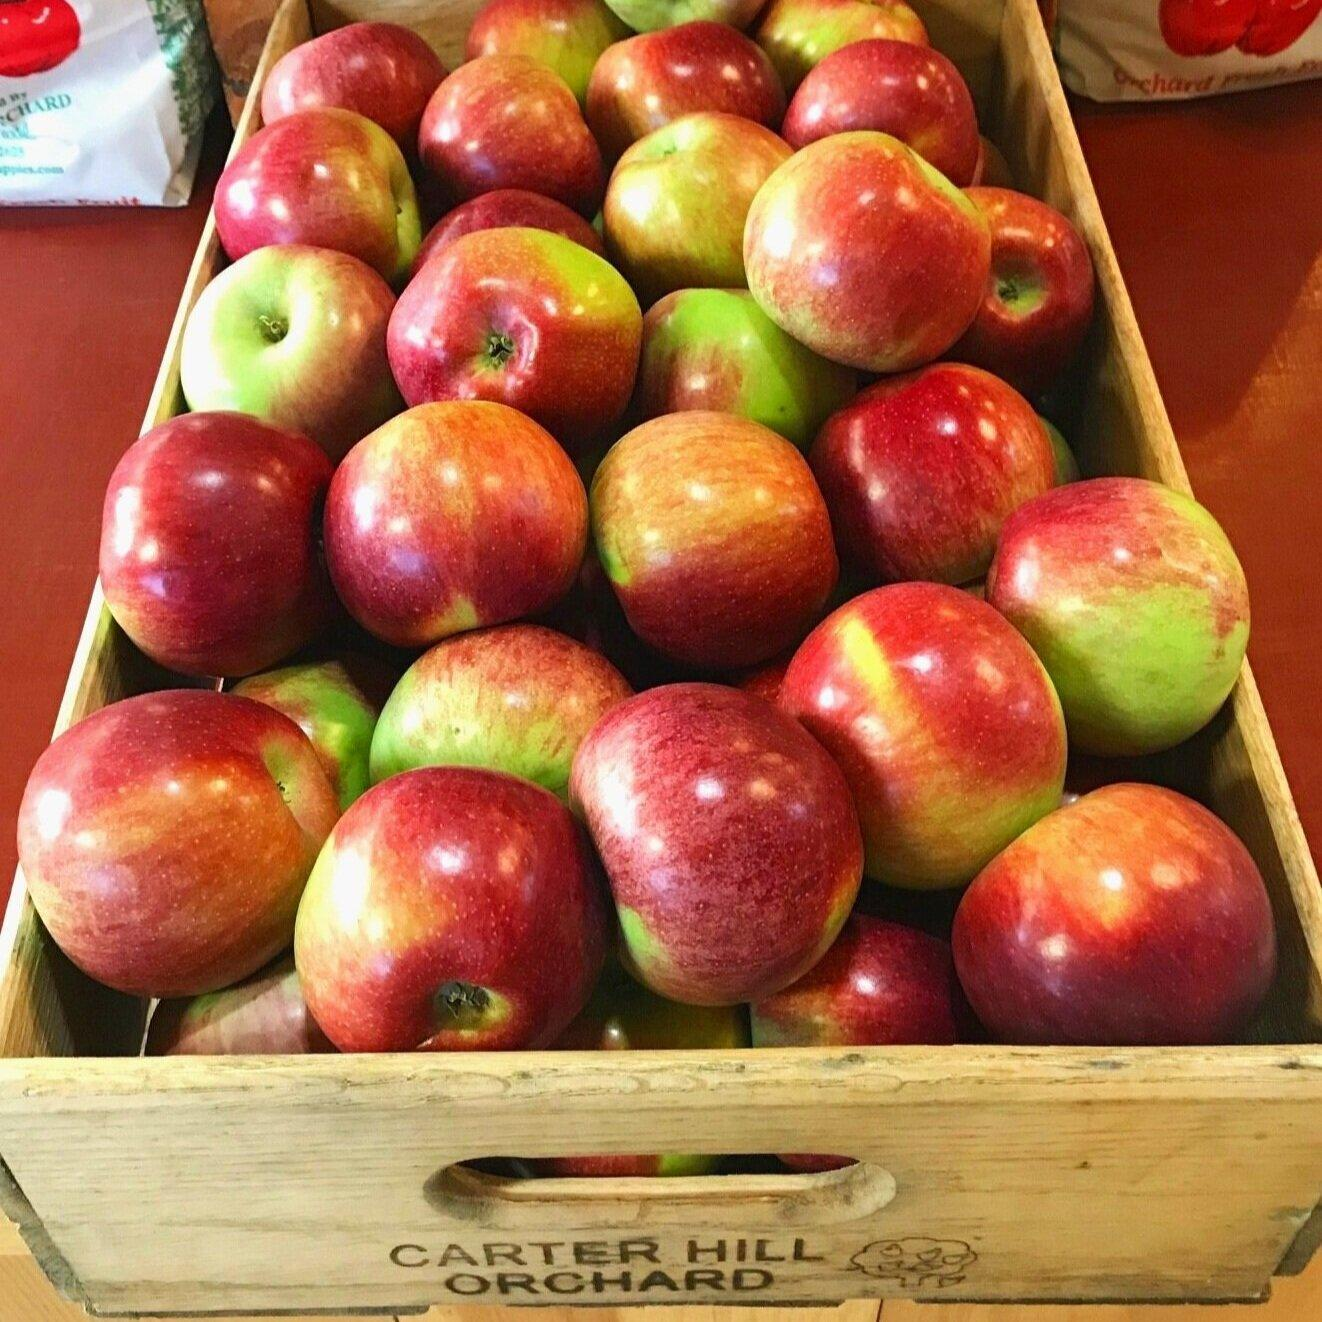apple: (15, 692, 338, 995), (567, 683, 866, 1005), (948, 778, 1291, 1051), (295, 763, 608, 1054), (983, 475, 1251, 764), (585, 408, 837, 684), (320, 395, 590, 651), (99, 408, 330, 669), (815, 362, 1069, 594), (746, 134, 990, 375), (178, 238, 403, 458), (387, 228, 640, 420), (213, 107, 414, 274), (640, 284, 844, 449), (604, 114, 787, 275), (781, 39, 985, 182), (415, 56, 594, 214), (952, 185, 1093, 366), (590, 18, 780, 137), (258, 22, 446, 136)
